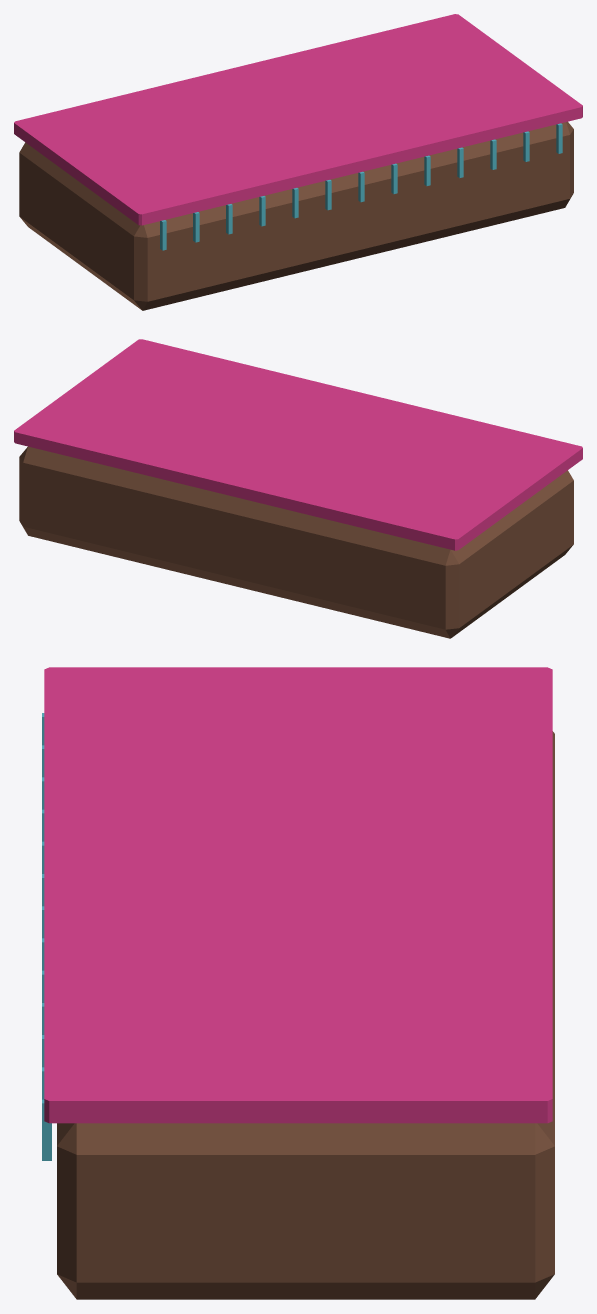
File: ofrenda_tier.glb
The picture shows the model from 3 angles, top to bottom: view 1: azimuth 30°, elevation 25°; view 2: azimuth 150°, elevation 25°; view 3: azimuth 270°, elevation 25°; orthographic projection. The views are drawn at different scales.
Parts seen in each view (by area): view 1: Mantel, Basamento; view 2: Mantel, Basamento; view 3: Mantel, Basamento.
Boxes of the visible parts, bbox=[...] form: Mantel: bbox=[14, 14, 582, 225]; Basamento: bbox=[19, 121, 573, 310]; Mantel: bbox=[14, 339, 582, 550]; Basamento: bbox=[19, 446, 573, 638]; Mantel: bbox=[44, 667, 552, 1123]; Basamento: bbox=[57, 731, 554, 1299].
Bounding box in the file's own units: 2 × 0.45 × 1.
